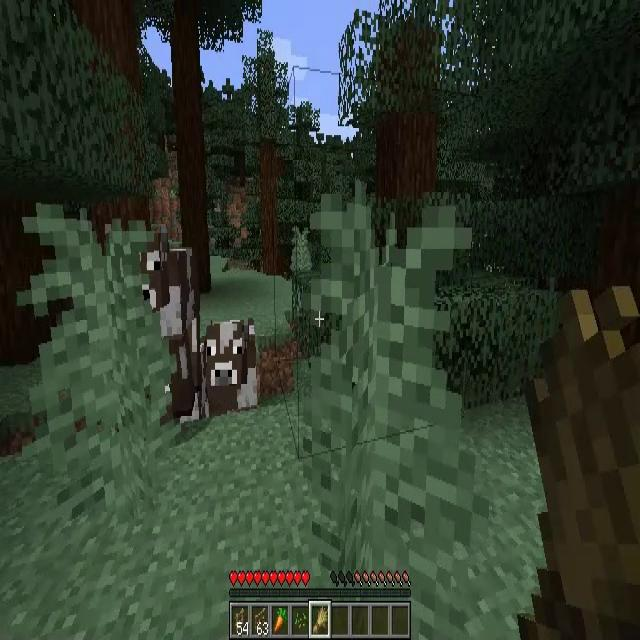cow: (129, 231, 197, 421), (201, 320, 259, 418)
